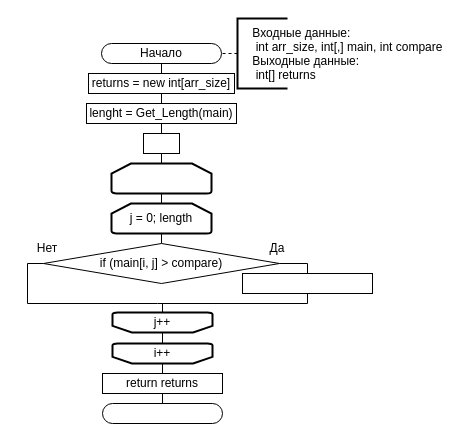
Some shapes in this 460 by 441 pixel diagram are drawn without their labels. The shapes that lost their labels are listed below. From the top down, each one's centre as x and y in pixels, then its label:
the point at 161,143: k = 0
the point at 161,178: i = 0; length
the point at 307,283: returns[k++] = main[i, j]
the point at 162,413: Конец
